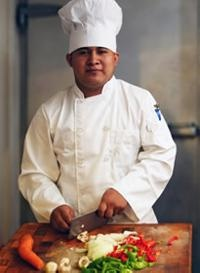person without safety: (16, 1, 179, 223)
